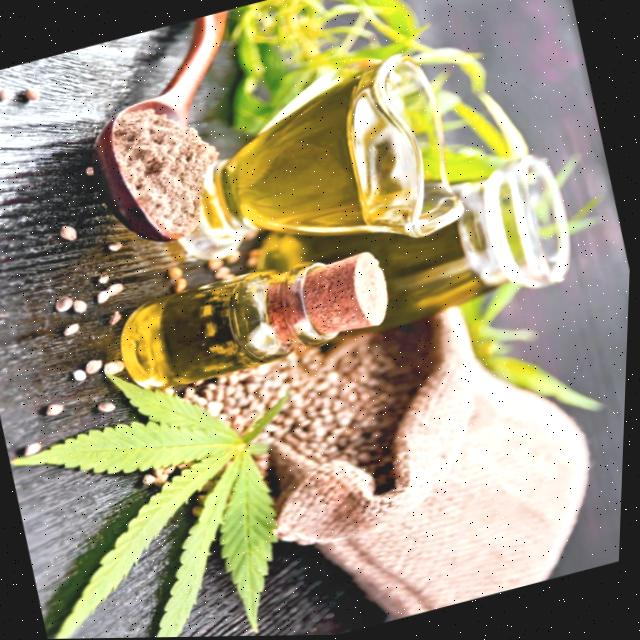cannabis: (9, 373, 288, 639)
